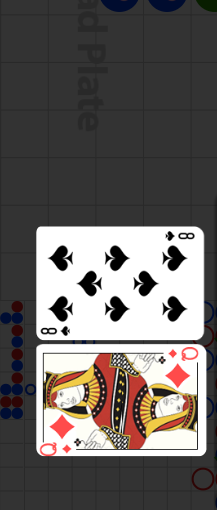8S: (162, 230, 196, 243)
9D: (38, 443, 73, 456)
QD: (36, 400, 83, 444), (157, 333, 203, 377)
